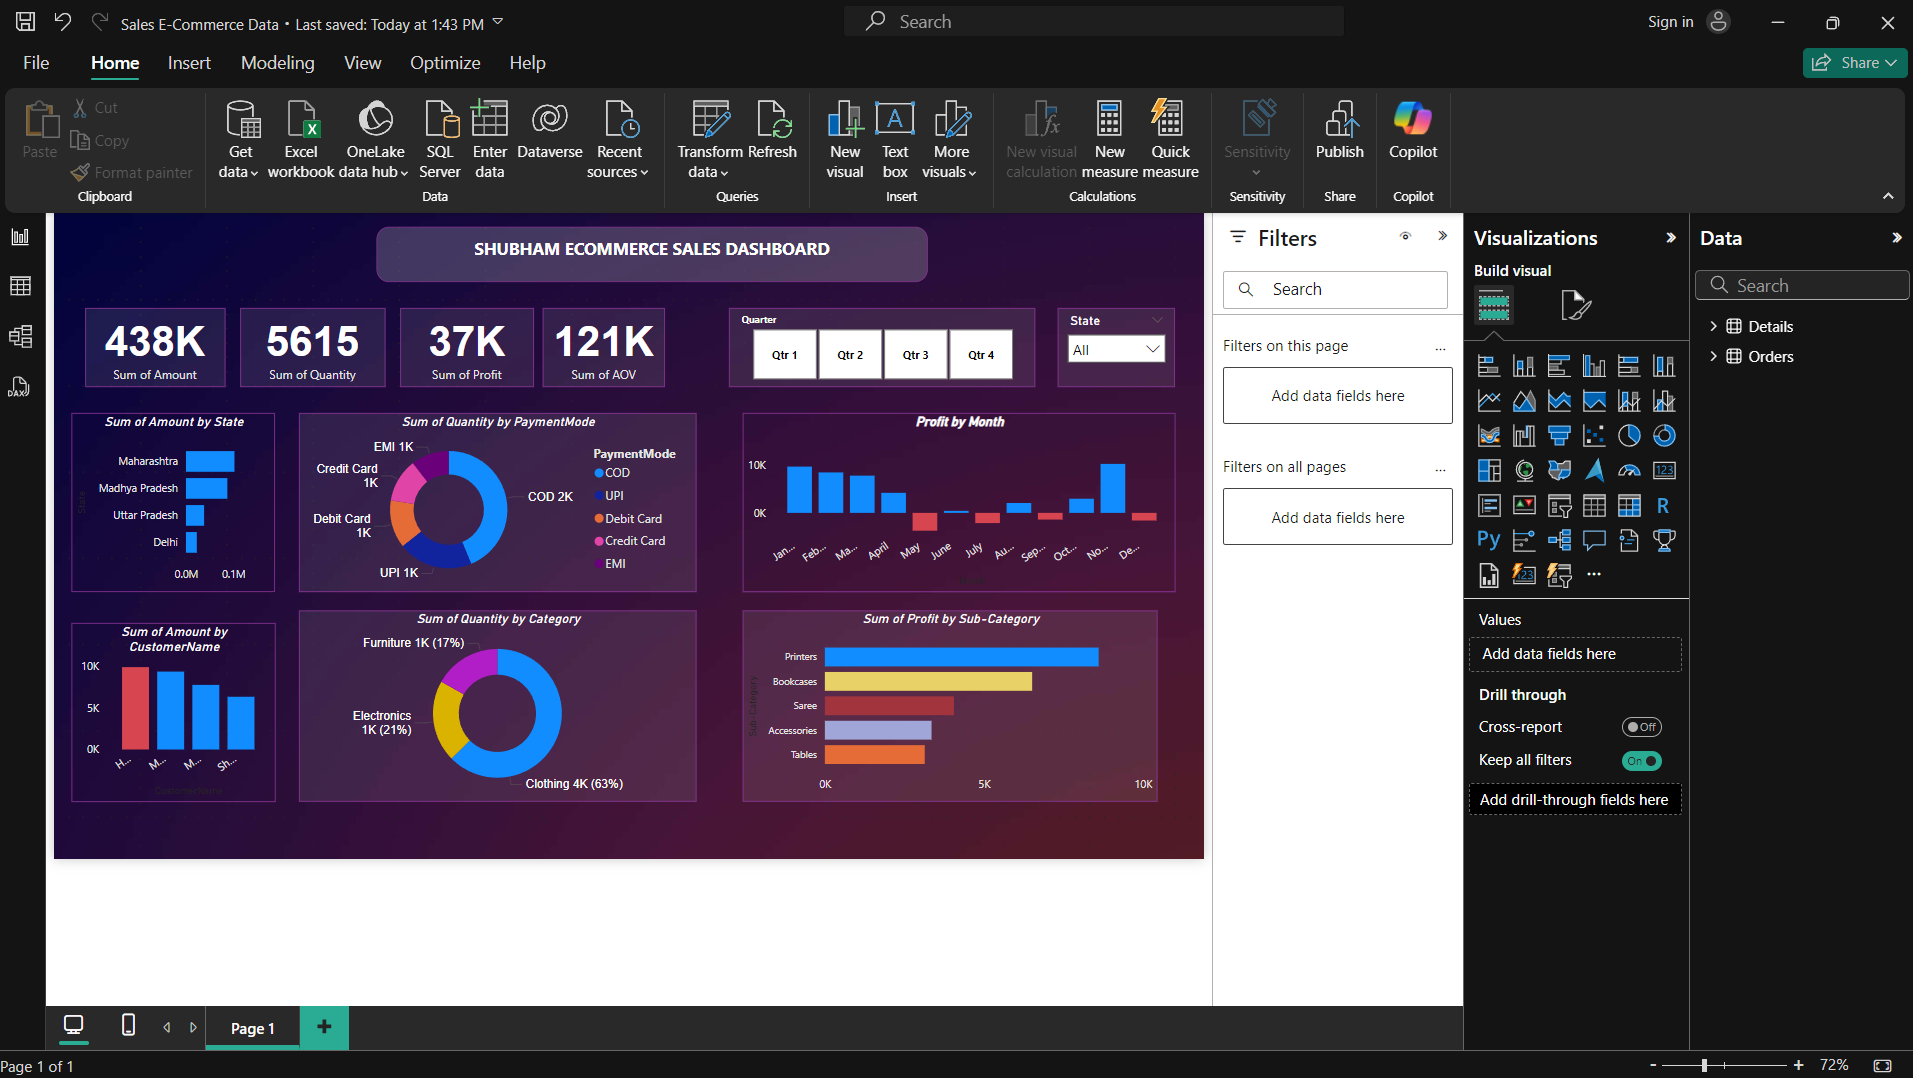

The page's visual inventory and layout, read from the dashboard file:
{"tool":"powerbi","page":{"name":"Page 1","canvas":[1280,720],"ordinal":0},"visuals":[{"type":"textbox","box":[359,15.3,613.6,61.2],"z":0},{"type":"columnChart","title":"Profit by Month","fields":{"Category":["Orders.Order Date.Variation.Date Hierarchy.Month"],"Y":["Details.Profit"]},"box":[766.6,222.6,481.4,199],"z":1000},{"type":"barChart","fields":{"Category":["Details.Sub-Category"],"Y":["Details.Profit"]},"box":[766.6,442.4,461.9,212.9],"z":2000},{"type":"donutChart","fields":{"Category":["Details.Category"],"Y":["Details.Quantity"]},"box":[272.7,442.4,442.4,212.9],"z":3000},{"type":"donutChart","fields":{"Y":["Details.Quantity"],"Category":["Details.PaymentMode"]},"box":[272.6,222.8,442.1,199.1],"z":4000},{"type":"card","fields":{"Values":["Details.Amount"]},"box":[34.8,105.7,155.8,87.7],"z":5000},{"type":"card","fields":{"Values":["Details.Quantity"]},"box":[207.3,105.7,161.4,87.7],"z":6000},{"type":"card","fields":{"Values":["Details.Profit"]},"box":[385.4,105.7,148.9,87.7],"z":7000},{"type":"card","fields":{"Values":["Details.AOV"]},"box":[544,105.7,136.3,87.7],"z":8000},{"type":"barChart","fields":{"Y":["Details.Amount"],"Category":["Orders.State"]},"box":[19.5,222.6,226.8,199],"z":9000},{"type":"columnChart","fields":{"Category":["Orders.CustomerName"],"Y":["Details.Amount"]},"box":[19,456,227,199],"z":10000},{"type":"slicer","fields":{"Values":["Orders.Order Date.Variation.Date Hierarchy.Quarter"]},"box":[751.3,105.7,340.9,87.7],"z":11000},{"type":"slicer","fields":{"Values":["Orders.State"]},"box":[1117.2,105.7,130.8,87.7],"z":12000}]}

Visuals, with their boxes on the page's 1280x720 design canvas (x1, y1, x2, y2). These are canvas units, not pixel positions in the 1913x1078 screenshot, which may show the page scaled, cropped or inside an application window:
textbox: 359/15/973/76
"Profit by Month" columnChart: 767/223/1248/422
barChart - Details.Sub-Category x Details.Profit: 767/442/1228/655
donutChart - Details.Category x Details.Quantity: 273/442/715/655
donutChart - Details.Quantity x Details.PaymentMode: 273/223/715/422
card - Details.Amount: 35/106/191/193
card - Details.Quantity: 207/106/369/193
card - Details.Profit: 385/106/534/193
card - Details.AOV: 544/106/680/193
barChart - Details.Amount x Orders.State: 20/223/246/422
columnChart - Orders.CustomerName x Details.Amount: 19/456/246/655
slicer - Orders.Order Date.Variation.Date Hierarchy.Quarter: 751/106/1092/193
slicer - Orders.State: 1117/106/1248/193
